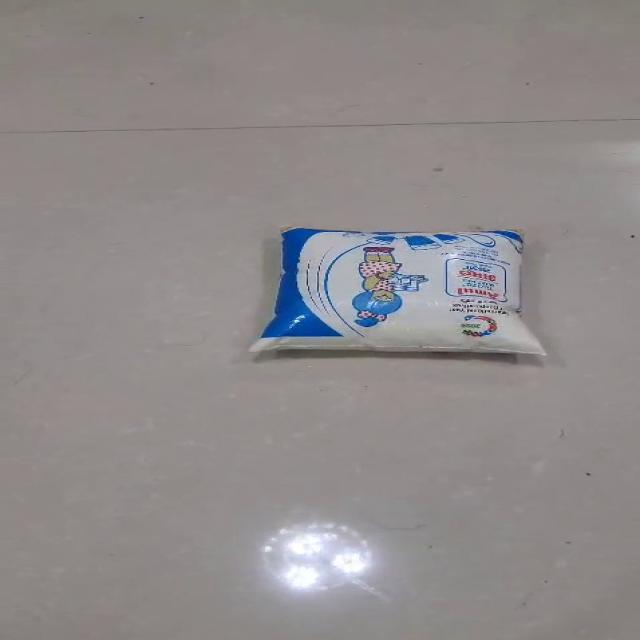plastic: (246, 225, 546, 356)
